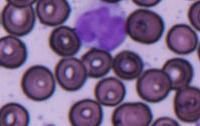M: (74, 0, 127, 51)
